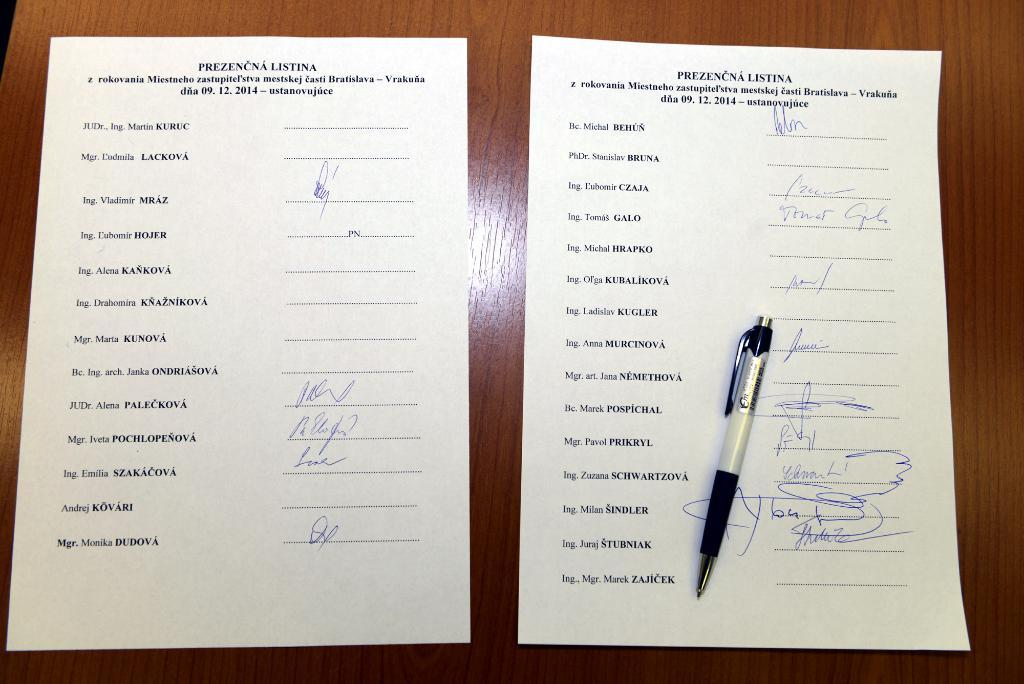pen: (692, 316, 775, 603)
